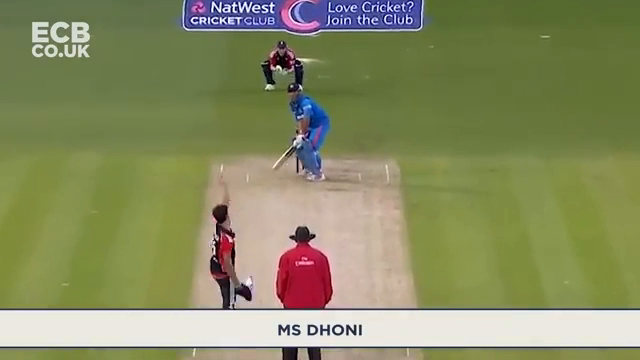Bowler: (206, 200, 255, 311)
Keeper: (260, 41, 306, 85)
Umpire: (276, 229, 336, 307)
batsman: (280, 84, 332, 183)
